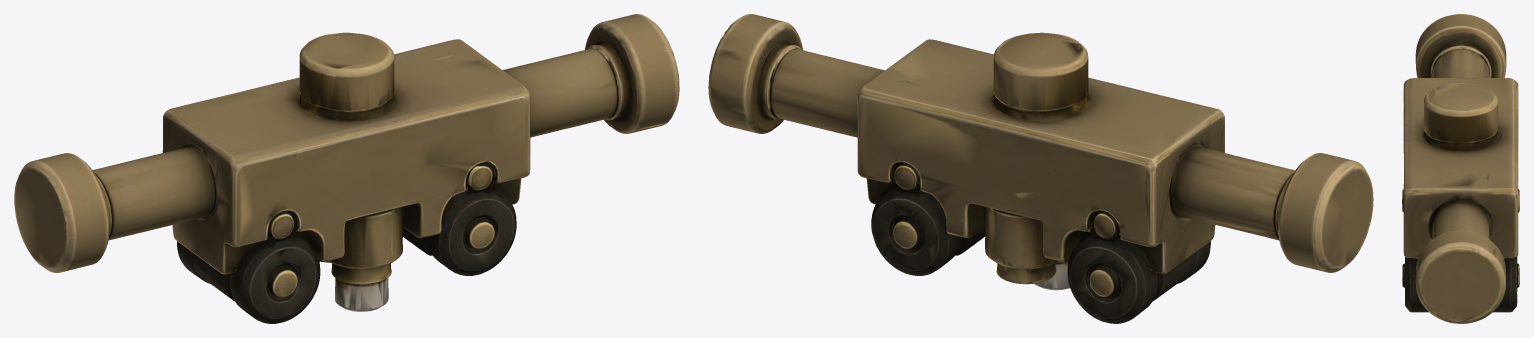
Rendered from hero-harness-locator-carrier-v1.glb.
3 renders of one model, left to right at view 1: azimuth 30°, elevation 25°; view 2: azimuth 150°, elevation 25°; view 3: azimuth 270°, elevation 25°, orthographic. The views are drawn at different scales.
Parts seen in each view (by area): view 1: node_0; view 2: node_0; view 3: node_0.
Part boxes in pixels (x1=…): node_0: x1=14, y1=14, x2=679, y2=323; node_0: x1=708, y1=14, x2=1373, y2=323; node_0: x1=1402, y1=14, x2=1519, y2=323.
Bounding box in the file's own units: 1.17 × 0.4393 × 0.2493.
Materials: 1 (1 with a texture image).
